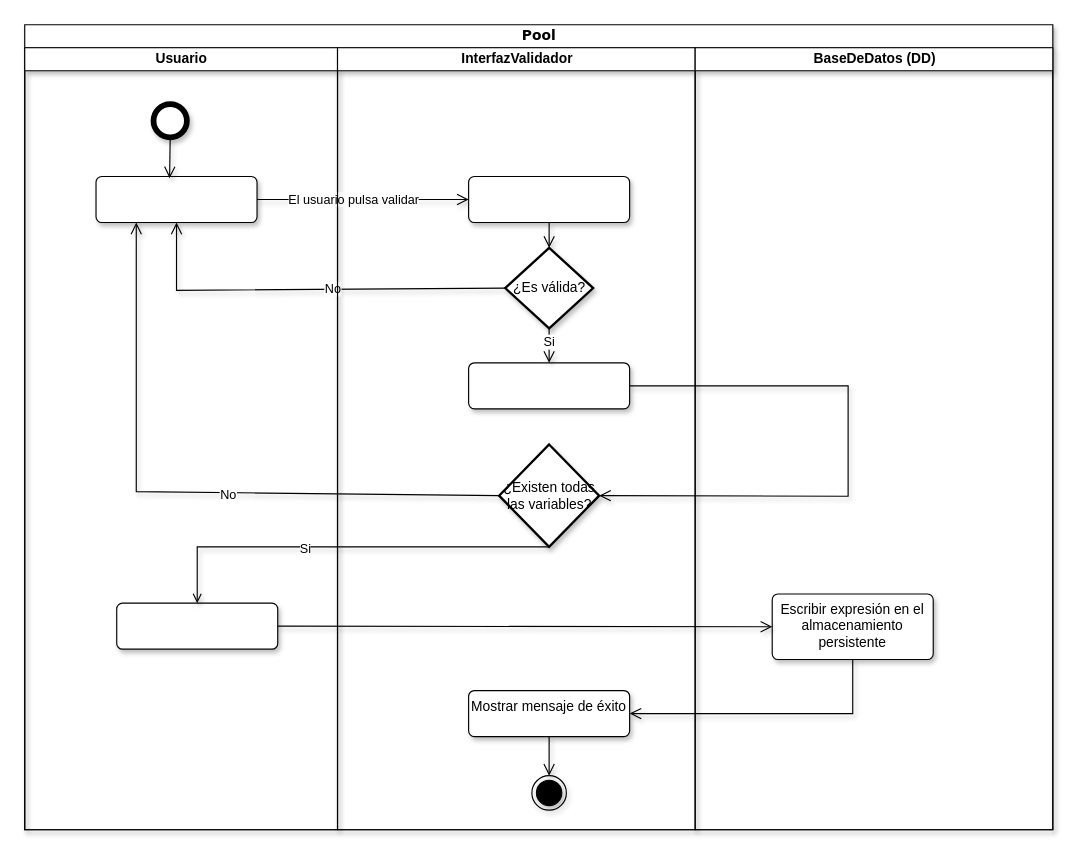
Image size: 1080x858. Some labels were removed from this diagram. Each missing label, with the centre of its shape:
Analizar sintaxis y operadores: point (550, 201)
Confirmar guardado: point (198, 627)
Consultar la existencia de variables en BD: point (550, 387)
Escribir expresión: point (177, 201)
